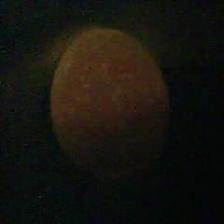fertile: (48, 25, 176, 178)
